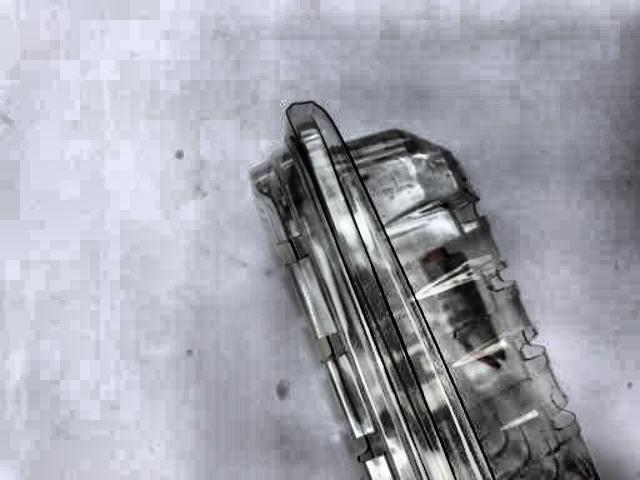Plastic: (237, 87, 616, 480)
